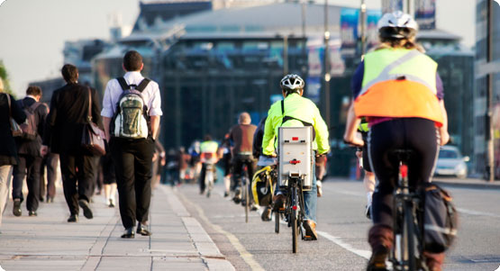bikerider: (332, 8, 466, 269), (241, 63, 333, 245), (218, 105, 260, 230)
